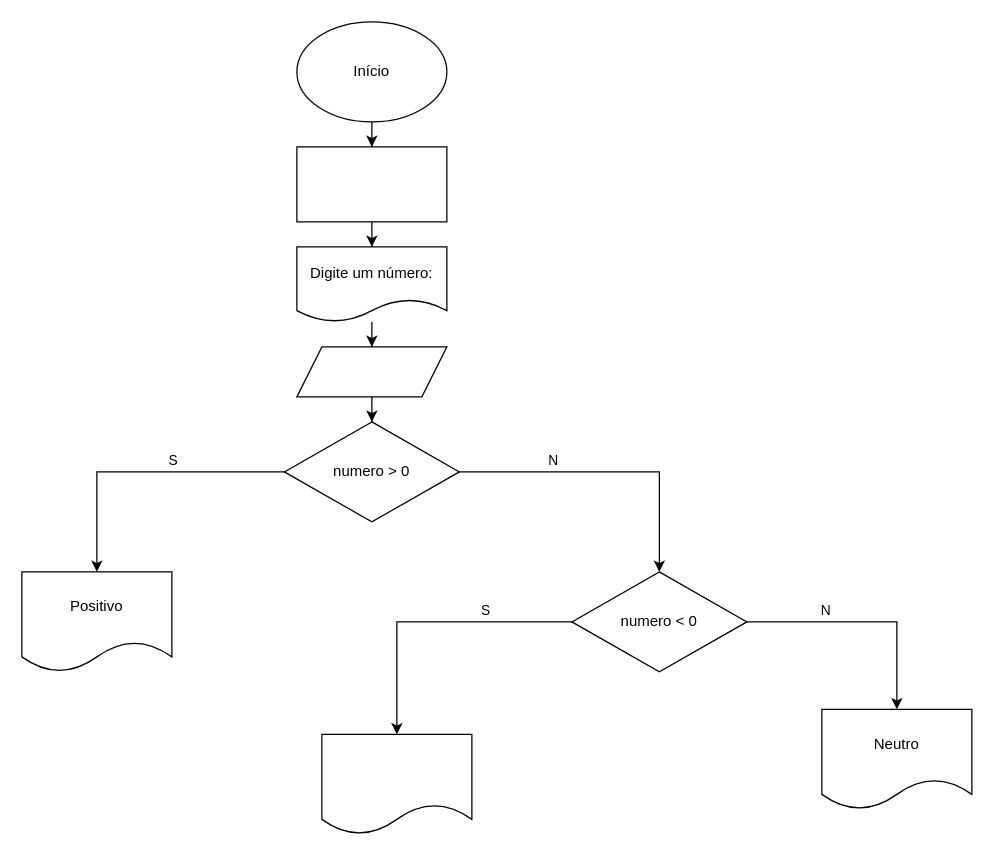
This 994x856 diagram has some shape labels left out. The centre of each missing label's shape, as x and y in pixels:
Inteiro numero: (371,184)
Negativo: (396,783)
numero: (371,371)
